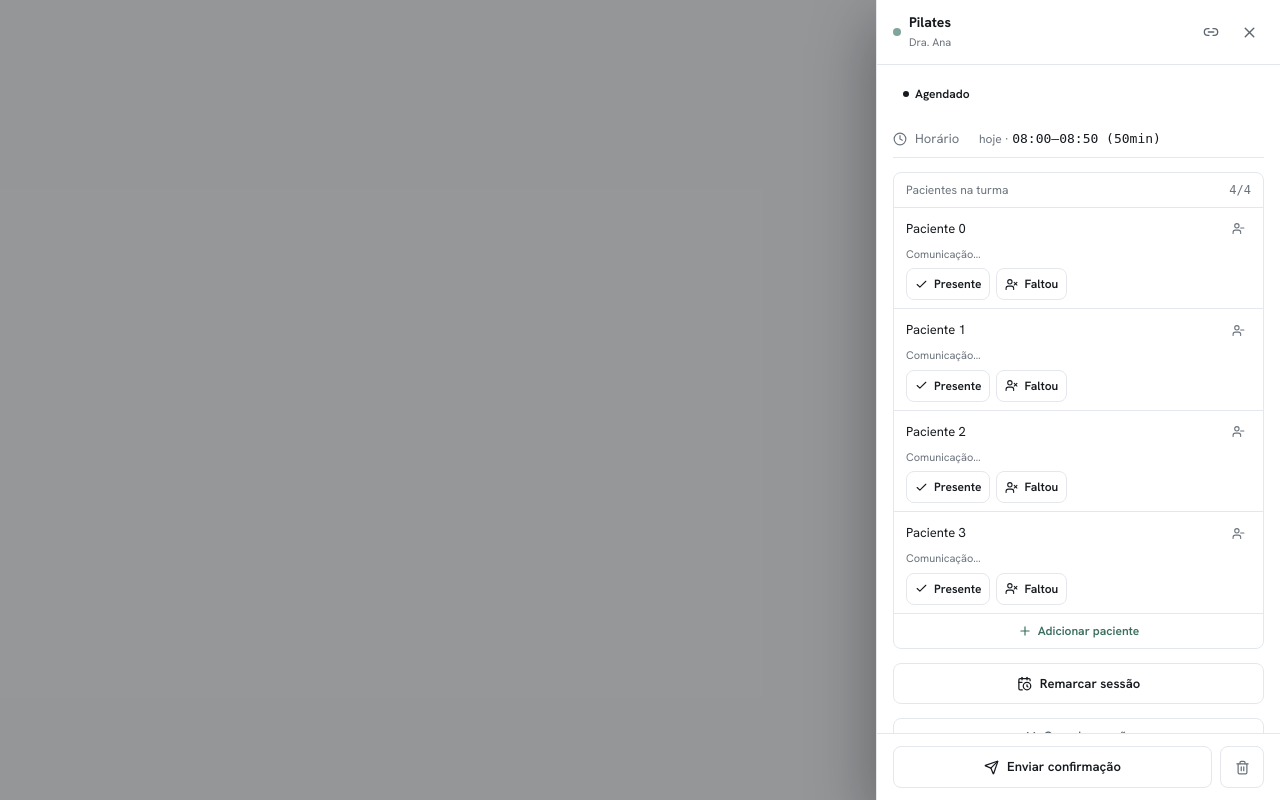
composição da turma (doc 109) › adicionar à turma › turma cheia continua deixando tentar, e diz que está cheia
The image size is (1280, 800).
Click the button "Adicionar paciente": (1078, 630) [894, 612, 1263, 648]
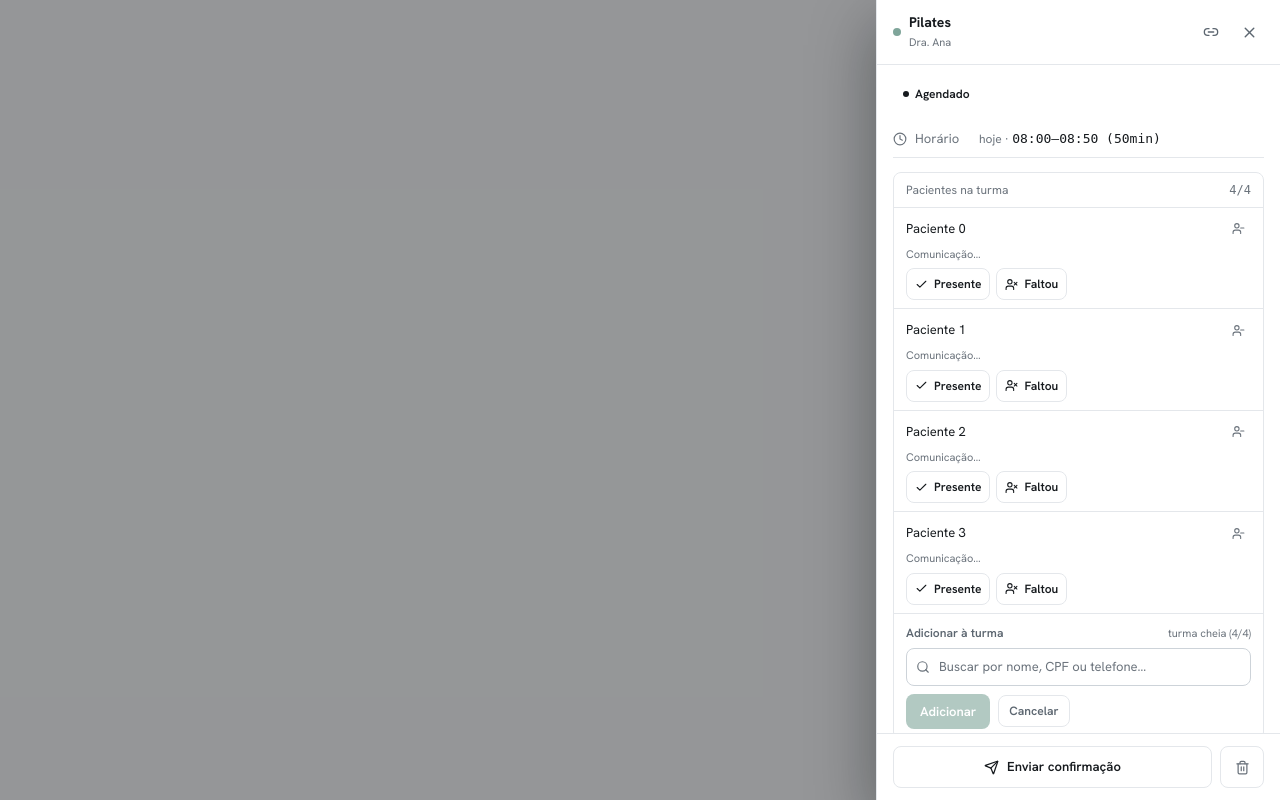
Expected: the text "turma cheia (4/4)" is shown, [1168, 624, 1251, 641]
Expected: the dropdown is shown, [906, 648, 1251, 686]
